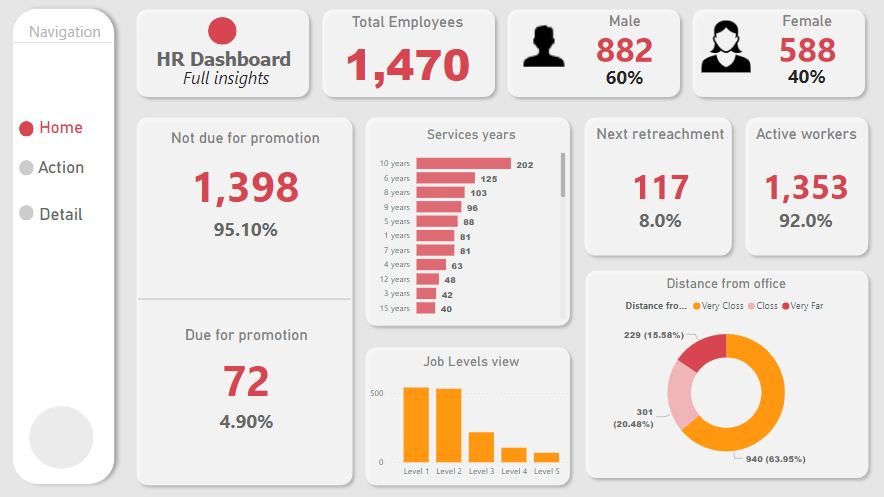

The page's visual inventory and layout, read from the dashboard file:
{"tool":"powerbi","page":{"name":"Home","canvas":[1280,720],"ordinal":0},"visuals":[{"type":"shape","box":[16.5,9.6,166.5,699.2],"z":0},{"type":"shape","box":[195.4,12.4,264.3,143.1],"z":1000},{"type":"shape","box":[459.7,12.4,264.3,143.1],"z":2000},{"type":"shape","box":[724,12.4,264.3,143.1],"z":3000},{"type":"shape","box":[988.2,12.4,264.3,143.1],"z":4000},{"type":"shape","box":[195.4,166.5,326.2,542.3],"z":5000},{"type":"shape","box":[521.6,166.2,309.7,315.2],"z":6000},{"type":"shape","box":[521.6,494.1,309.7,214.7],"z":7000},{"type":"shape","box":[834.8,384.2,421.6,314.1],"z":8000},{"type":"shape","box":[833.6,166.7,228.3,215],"z":9000},{"type":"shape","box":[1063.1,166.7,193.3,215],"z":10000},{"type":"textbox","box":[209.7,71.2,238.7,51.4],"z":11000},{"type":"textbox","box":[36.9,33,130.5,51.4],"z":12000},{"type":"textbox","box":[209.7,97.6,251.9,55.4],"z":13000},{"type":"shape","box":[305.9,33,40.9,39.6],"z":14000},{"type":"card","title":"Total Employees","fields":{"Values":["All Measures.Total Emp"]},"box":[468,27.5,246.4,112.9],"z":15000},{"type":"card","title":"Male","fields":{"Values":["All Measures.Male"]},"box":[814.8,26.2,170.7,75.7],"z":16000},{"type":"card","fields":{"Values":["All Measures.Male %"]},"box":[834.1,90.8,132.1,55.1],"z":17000},{"type":"card","title":"Female","fields":{"Values":["All Measures.Female"]},"box":[1068.7,26.2,183.1,75.7],"z":18000},{"type":"card","fields":{"Values":["All Measures.Female %"]},"box":[1083.9,90.8,152.8,53.7],"z":19000},{"type":"image","box":[736.3,26.2,95,90.8],"z":20000},{"type":"actionButton","title":"Home","box":[27.8,176.4,140.1,30.2],"z":21000},{"type":"image","box":[1004.7,33,79.8,84],"z":22000},{"type":"actionButton","title":"Action","box":[27.7,233.4,139.8,56.7],"z":23000},{"type":"card","title":"Active workers","fields":{"Values":["All Measures.On service"]},"box":[1058.3,186,203,142.6],"z":24000},{"type":"actionButton","title":"Detail","box":[27.7,300.7,139.8,58],"z":25000},{"type":"card","fields":{"Values":["All Measures.% Active workers"]},"box":[1082.4,296,153.4,53.2],"z":26000},{"type":"card","title":"Next retreachment","fields":{"Values":["All Measures.Due for retirment"]},"box":[843.2,186,215,142.6],"z":27000},{"type":"card","fields":{"Values":["All Measures.%Due for retirment"]},"box":[865,296,171.5,53.2],"z":28000},{"type":"columnChart","title":"Job Levels view","fields":{"Category":["HR Analytics Data.Job Level"],"Y":["All Measures.Total Emp"]},"box":[531.3,512,300,185.8],"z":29000},{"type":"barChart","title":"Services years","fields":{"Category":["HR Analytics Data.Total working Years"],"Y":["All Measures.Total Emp"]},"box":[541.5,188.1,279.8,281],"z":30000},{"type":"donutChart","title":"Distance from office","fields":{"Category":["HR Analytics Data.Distance from office"],"Y":["All Measures.Total Emp"]},"box":[840.8,399.9,408.3,282.7],"z":31000},{"type":"card","title":"Not due for promotion","fields":{"Values":["All Measures.Not Due"]},"box":[207.8,192.1,303.2,130.5],"z":32000},{"type":"card","title":"Due for promotion","fields":{"Values":["All Measures.Due for promotion"]},"box":[209,473.8,303.2,119.6],"z":33000},{"type":"shape","box":[206.6,427.7,303.2,14.5],"z":34000},{"type":"card","fields":{"Values":["All Measures.% Not due for promotion"]},"box":[283.5,309.7,152.8,53.7],"z":35000},{"type":"card","fields":{"Values":["All Measures.% Due for promotion"]},"box":[285.1,582.5,152.2,53.2],"z":36000},{"type":"shape","box":[36.9,180.7,21.1,22.4],"z":37000},{"type":"shape","box":[36.9,236,21.1,22.4],"z":38000},{"type":"shape","box":[36.9,300.7,21.1,22.4],"z":39000},{"type":"shape","box":[51.4,586.8,92.3,89.7],"z":40000},{"type":"shape","box":[30.2,61.6,140.1,15.7],"z":41000}]}

Visuals, with their boxes on the page's 1280x720 design canvas (x1, y1, x2, y2). These are canvas units, not pixel positions in the 884x497 screenshot, which may show the page scaled, cropped or inside an application window:
shape: {"x1": 16, "y1": 10, "x2": 183, "y2": 709}
shape: {"x1": 195, "y1": 12, "x2": 460, "y2": 156}
shape: {"x1": 460, "y1": 12, "x2": 724, "y2": 156}
shape: {"x1": 724, "y1": 12, "x2": 988, "y2": 156}
shape: {"x1": 988, "y1": 12, "x2": 1252, "y2": 156}
shape: {"x1": 195, "y1": 166, "x2": 522, "y2": 709}
shape: {"x1": 522, "y1": 166, "x2": 831, "y2": 481}
shape: {"x1": 522, "y1": 494, "x2": 831, "y2": 709}
shape: {"x1": 835, "y1": 384, "x2": 1256, "y2": 698}
shape: {"x1": 834, "y1": 167, "x2": 1062, "y2": 382}
shape: {"x1": 1063, "y1": 167, "x2": 1256, "y2": 382}
textbox: {"x1": 210, "y1": 71, "x2": 448, "y2": 123}
textbox: {"x1": 37, "y1": 33, "x2": 167, "y2": 84}
textbox: {"x1": 210, "y1": 98, "x2": 462, "y2": 153}
shape: {"x1": 306, "y1": 33, "x2": 347, "y2": 73}
"Total Employees" card: {"x1": 468, "y1": 28, "x2": 714, "y2": 140}
"Male" card: {"x1": 815, "y1": 26, "x2": 986, "y2": 102}
card - All Measures.Male %: {"x1": 834, "y1": 91, "x2": 966, "y2": 146}
"Female" card: {"x1": 1069, "y1": 26, "x2": 1252, "y2": 102}
card - All Measures.Female %: {"x1": 1084, "y1": 91, "x2": 1237, "y2": 144}
image: {"x1": 736, "y1": 26, "x2": 831, "y2": 117}
"Home" actionButton: {"x1": 28, "y1": 176, "x2": 168, "y2": 207}
image: {"x1": 1005, "y1": 33, "x2": 1084, "y2": 117}
"Action" actionButton: {"x1": 28, "y1": 233, "x2": 168, "y2": 290}
"Active workers" card: {"x1": 1058, "y1": 186, "x2": 1261, "y2": 329}
"Detail" actionButton: {"x1": 28, "y1": 301, "x2": 168, "y2": 359}
card - All Measures.% Active workers: {"x1": 1082, "y1": 296, "x2": 1236, "y2": 349}
"Next retreachment" card: {"x1": 843, "y1": 186, "x2": 1058, "y2": 329}
card - All Measures.%Due for retirment: {"x1": 865, "y1": 296, "x2": 1036, "y2": 349}
"Job Levels view" columnChart: {"x1": 531, "y1": 512, "x2": 831, "y2": 698}
"Services years" barChart: {"x1": 542, "y1": 188, "x2": 821, "y2": 469}
"Distance from office" donutChart: {"x1": 841, "y1": 400, "x2": 1249, "y2": 683}
"Not due for promotion" card: {"x1": 208, "y1": 192, "x2": 511, "y2": 323}
"Due for promotion" card: {"x1": 209, "y1": 474, "x2": 512, "y2": 593}
shape: {"x1": 207, "y1": 428, "x2": 510, "y2": 442}
card - All Measures.% Not due for promotion: {"x1": 284, "y1": 310, "x2": 436, "y2": 363}
card - All Measures.% Due for promotion: {"x1": 285, "y1": 582, "x2": 437, "y2": 636}
shape: {"x1": 37, "y1": 181, "x2": 58, "y2": 203}
shape: {"x1": 37, "y1": 236, "x2": 58, "y2": 258}
shape: {"x1": 37, "y1": 301, "x2": 58, "y2": 323}
shape: {"x1": 51, "y1": 587, "x2": 144, "y2": 676}
shape: {"x1": 30, "y1": 62, "x2": 170, "y2": 77}
